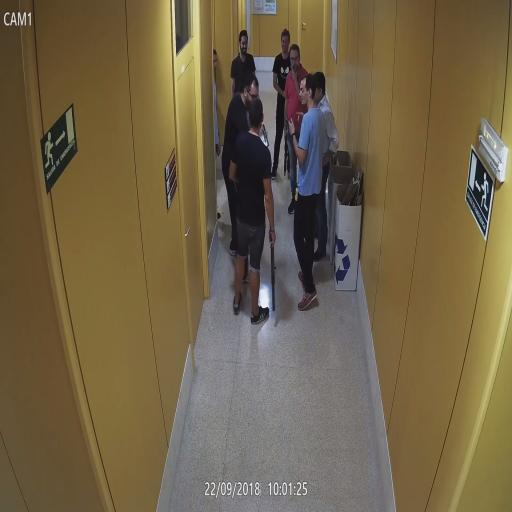Handgun: (284, 115, 291, 140)
